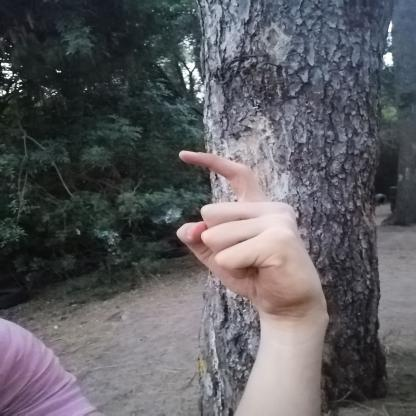RAA: (162, 140, 336, 322)
